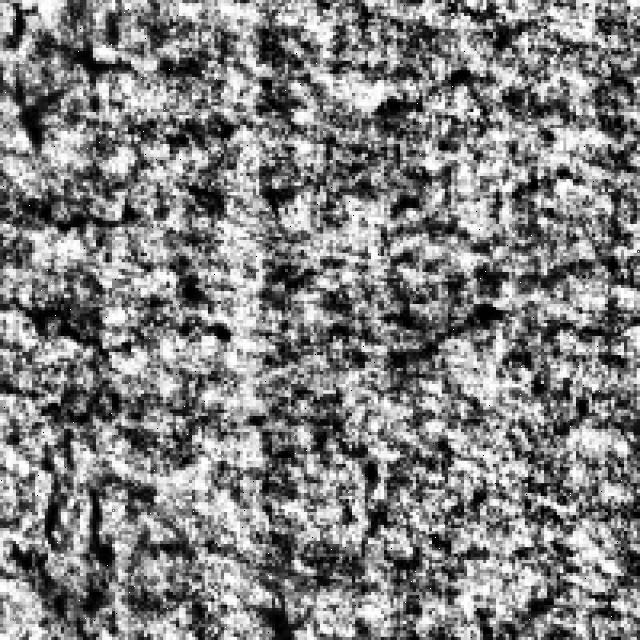Pitted_Surface: (362, 13, 640, 416), (7, 275, 250, 637), (10, 3, 378, 218)
